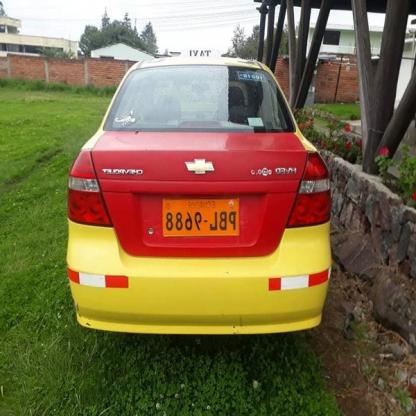Placa: (159, 194, 242, 237)
